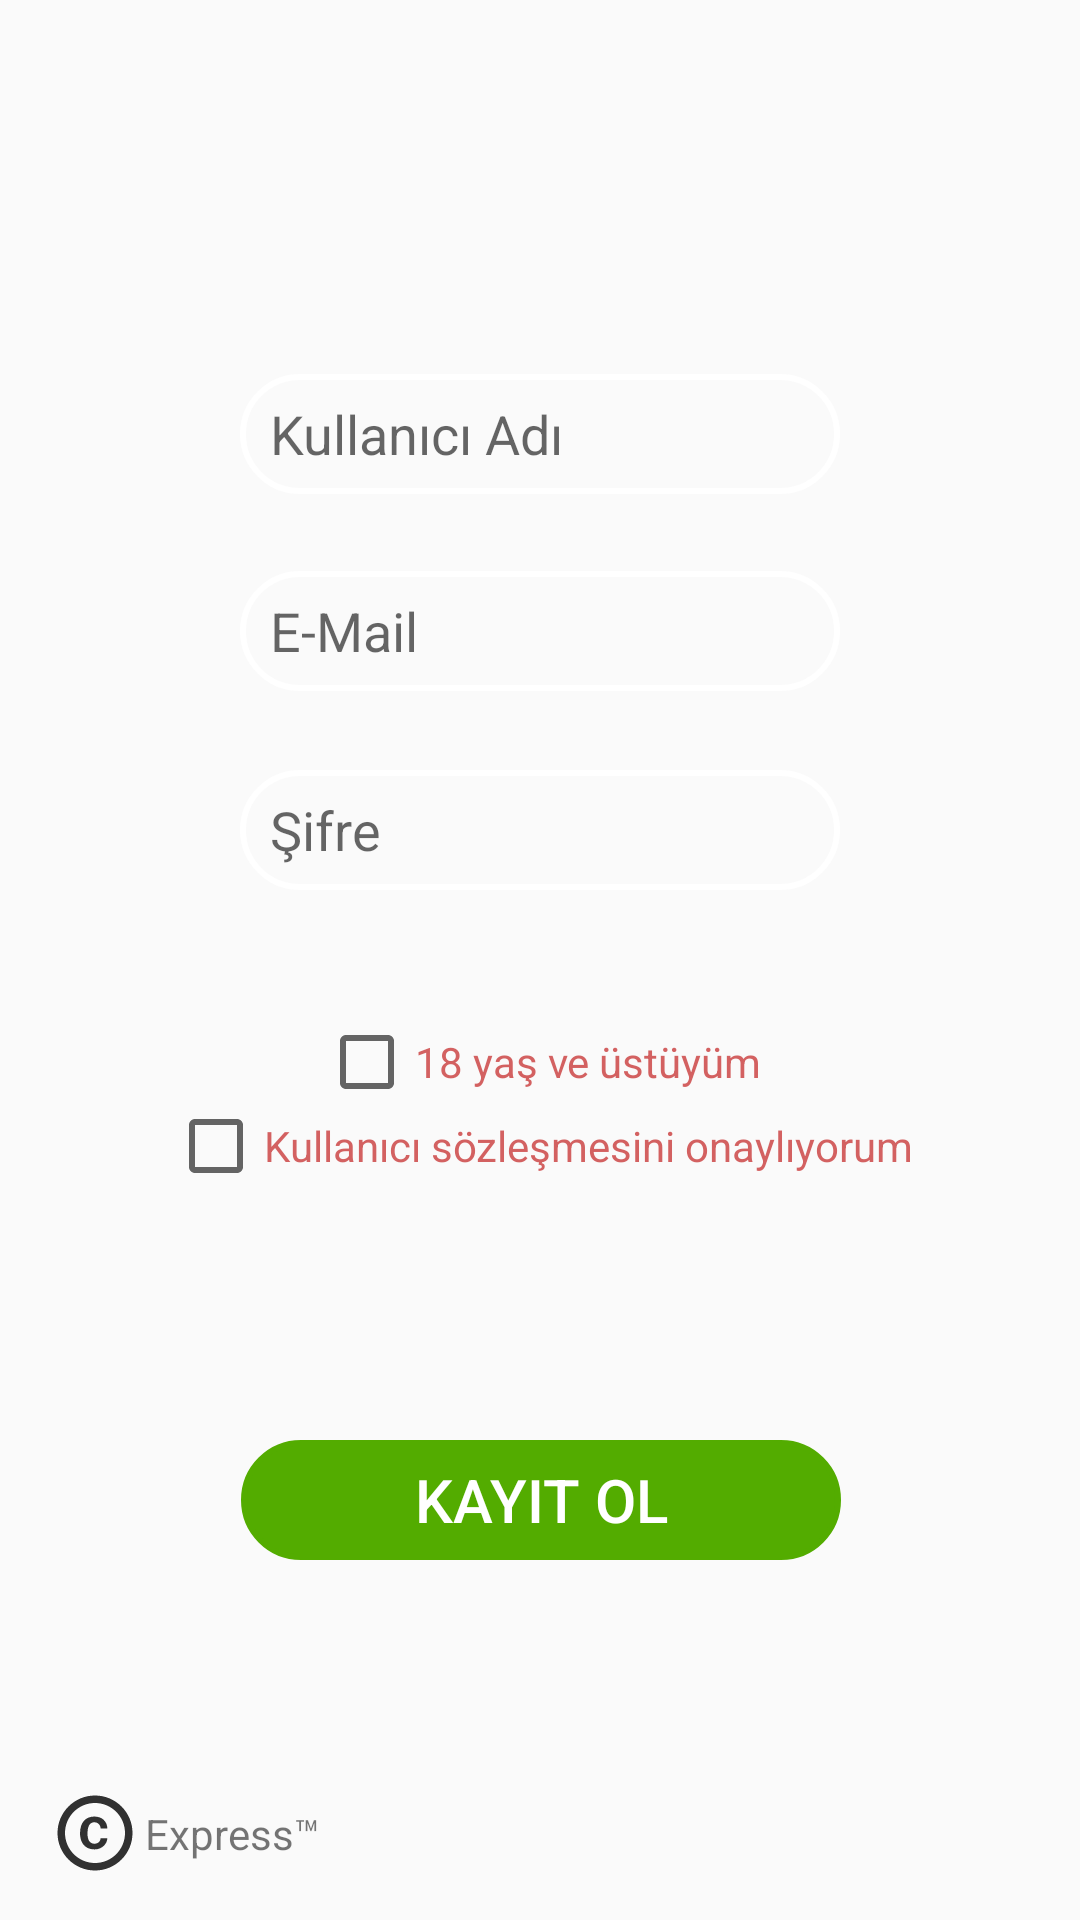

Named icons in this screenshot (1080px x 1920px) and their centers, (x,y):
copyright: (95,1833)
